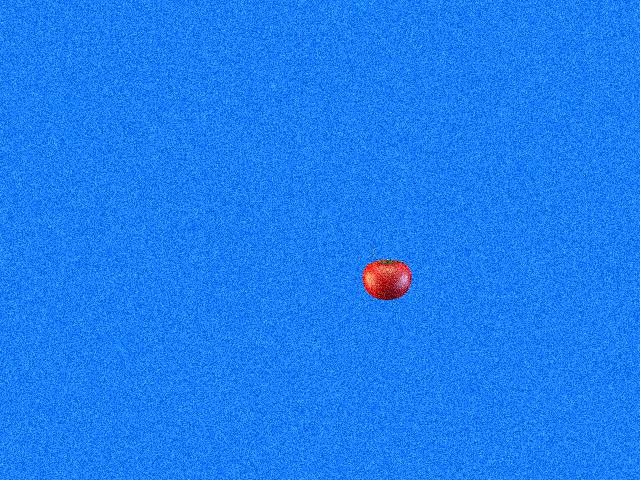tomato: (363, 260, 412, 300)
